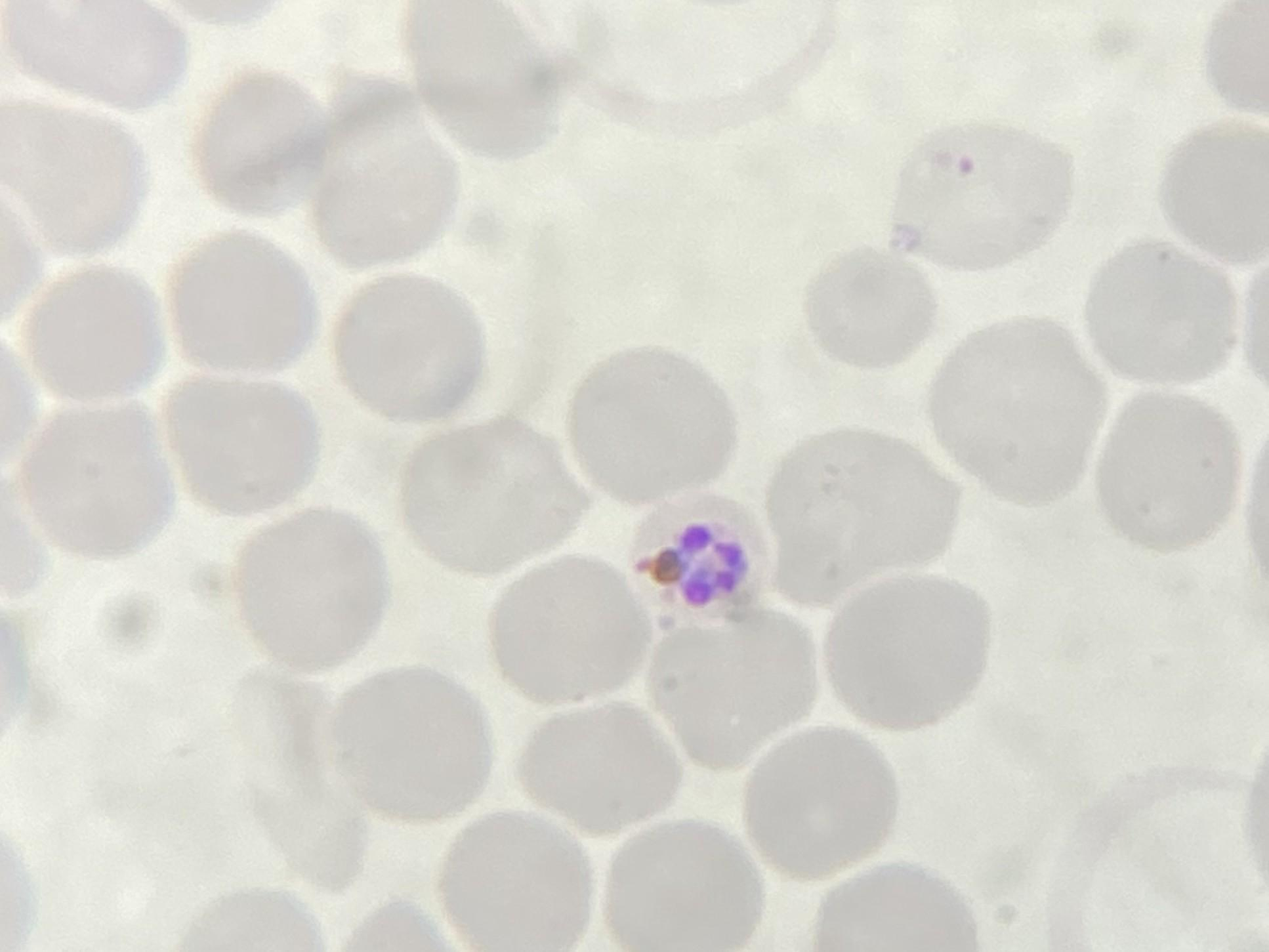Infected: (626, 493, 771, 632)
Uninfected: (763, 429, 961, 609), (927, 318, 1105, 500), (398, 414, 591, 579), (313, 58, 456, 271), (569, 342, 741, 507), (890, 121, 1076, 272), (820, 574, 989, 729), (654, 609, 812, 771), (332, 666, 494, 824), (405, 0, 563, 161), (744, 720, 900, 880), (0, 93, 152, 256), (488, 552, 650, 704), (236, 510, 391, 666), (518, 701, 681, 841), (166, 370, 319, 519), (1098, 390, 1238, 549), (26, 408, 172, 560), (1085, 241, 1236, 387), (442, 811, 596, 952), (335, 282, 488, 420), (608, 819, 763, 952), (171, 235, 316, 377), (4, 0, 190, 110), (190, 66, 319, 221), (26, 265, 166, 401), (801, 248, 938, 373), (818, 867, 974, 952)
